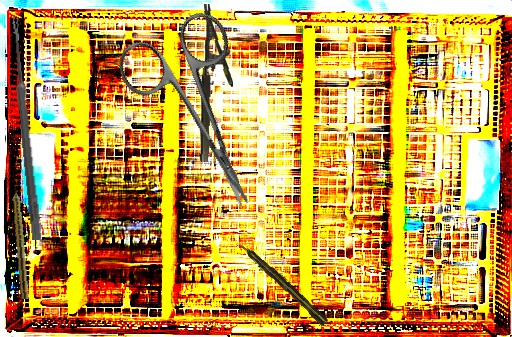Handpiece: (235, 238, 330, 328), (10, 182, 32, 300)
Iris Scissors: (109, 5, 294, 231)
Needle Holder: (198, 3, 236, 163)
Surgical Spoon: (8, 16, 44, 241)
